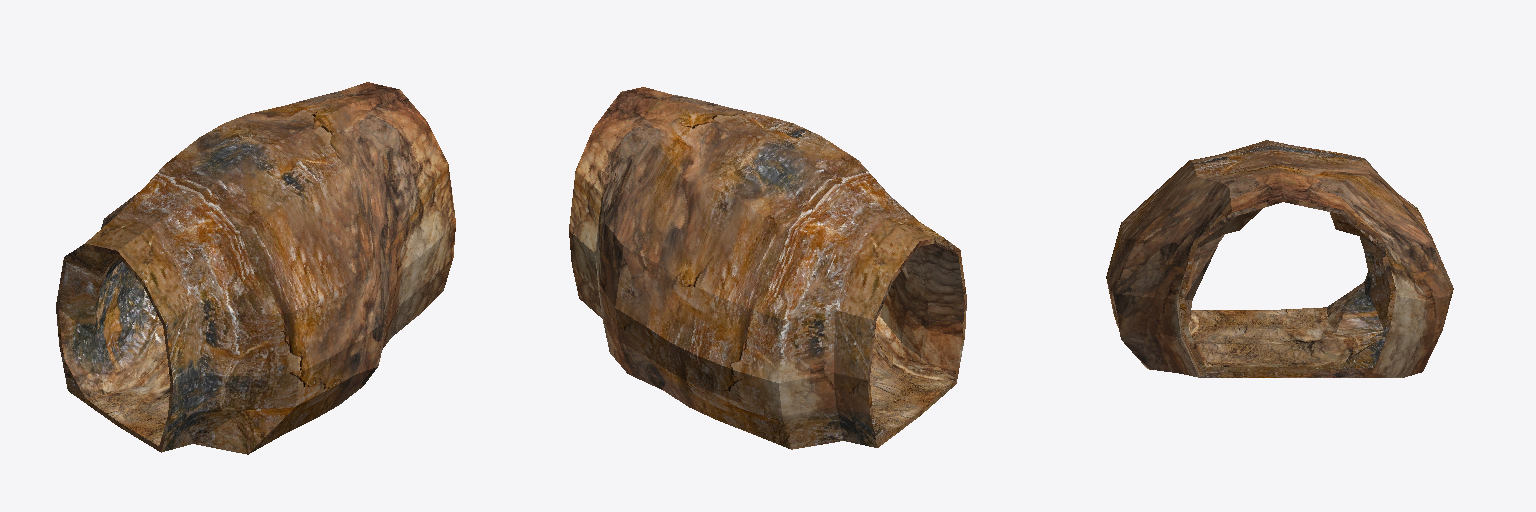
3 views of the same model, side by side, from view 1: azimuth 30°, elevation 25°; view 2: azimuth 150°, elevation 25°; view 3: azimuth 270°, elevation 25° (orthographic).
Parts seen in each view (by area): view 1: caveramp3; view 2: caveramp3; view 3: caveramp3.
Part boxes in pixels (left/top/right/bottom): caveramp3: left=56, top=82, right=455, bottom=454; caveramp3: left=569, top=87, right=966, bottom=449; caveramp3: left=1106, top=140, right=1453, bottom=377.
Bounding box in the file's own units: 162 × 135 × 163.
Materials: 1 (1 with a texture image).